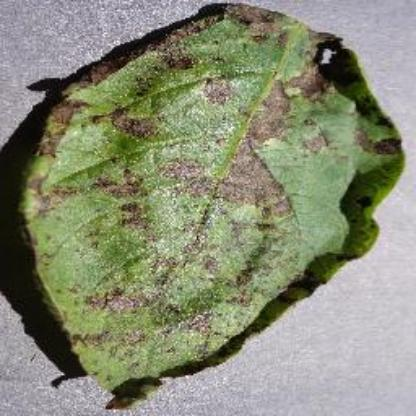Early-Blight: (22, 4, 409, 402)
